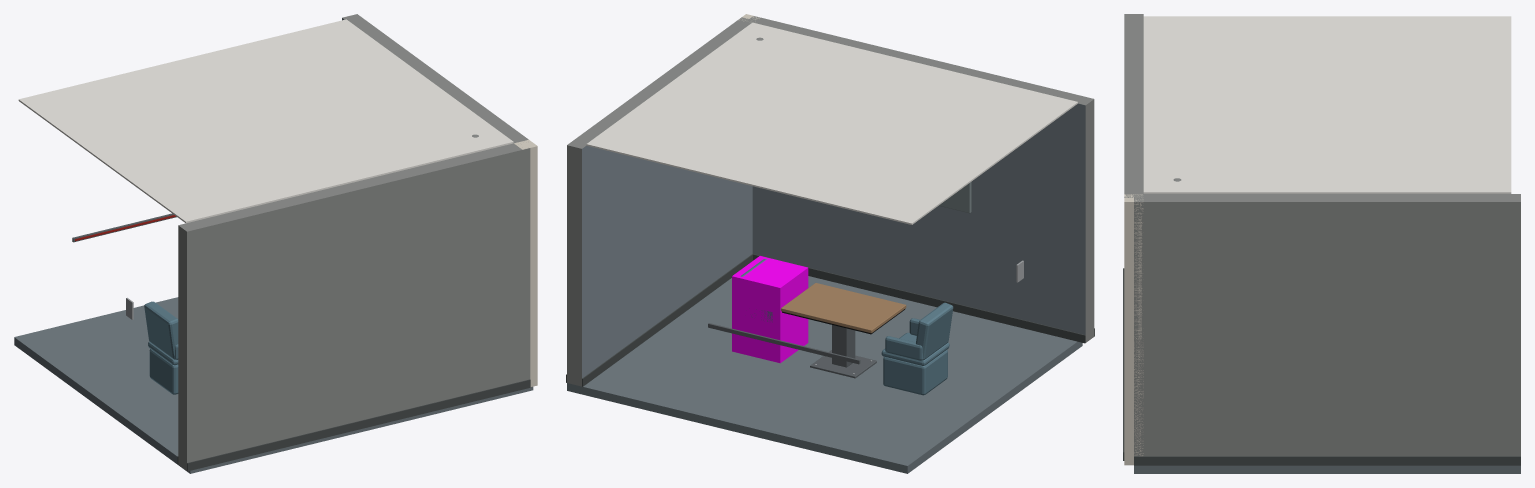
Rendered from ENV_SecureInterviewSuite.glb.
The picture shows the model from 3 angles, left to right: view 1: azimuth 30°, elevation 25°; view 2: azimuth 150°, elevation 25°; view 3: azimuth 270°, elevation 25°; orthographic projection. The views are drawn at different scales.
Parts seen in each view (by area): view 1: ENV_SecureInterviewSuite_Architecture, ENV_SecureInterviewSuite_Ceiling, PROP_Chair_Interview_Weighted_Mesh, ENV_SecureInterviewSuite_Posts, PROP_Duress_Strip_2m_Mesh.001; view 2: ENV_SecureInterviewSuite_Architecture, ENV_SecureInterviewSuite_Ceiling, PROP_Chair_Interview_Weighted_COL-colonly.001, PROP_Table_Interview_Fixed_Mesh, PROP_Chair_Interview_Weighted_Mesh, PROP_Duress_Strip_2m_Mesh.001, PROP_Acoustic_Panel_Mesh; view 3: ENV_SecureInterviewSuite_Architecture, ENV_SecureInterviewSuite_Ceiling, ENV_SecureInterviewSuite_Posts.
Part boxes in pixels (bbox=[...]): ENV_SecureInterviewSuite_Architecture: bbox=[14, 14, 533, 473]; ENV_SecureInterviewSuite_Ceiling: bbox=[18, 19, 513, 223]; PROP_Chair_Interview_Weighted_Mesh: bbox=[144, 301, 178, 394]; ENV_SecureInterviewSuite_Posts: bbox=[514, 139, 537, 386]; PROP_Duress_Strip_2m_Mesh.001: bbox=[72, 213, 176, 242]; ENV_SecureInterviewSuite_Architecture: bbox=[566, 16, 1094, 473]; ENV_SecureInterviewSuite_Ceiling: bbox=[586, 22, 1077, 224]; PROP_Chair_Interview_Weighted_COL-colonly.001: bbox=[732, 256, 808, 363]; PROP_Table_Interview_Fixed_Mesh: bbox=[781, 283, 906, 378]; PROP_Chair_Interview_Weighted_Mesh: bbox=[881, 302, 953, 395]; PROP_Duress_Strip_2m_Mesh.001: bbox=[708, 323, 860, 364]; PROP_Acoustic_Panel_Mesh: bbox=[939, 182, 971, 213]; ENV_SecureInterviewSuite_Architecture: bbox=[1123, 14, 1520, 473]; ENV_SecureInterviewSuite_Ceiling: bbox=[1143, 16, 1511, 193]; ENV_SecureInterviewSuite_Posts: bbox=[1124, 194, 1143, 465].
Size of what is drawn, in the model's own units: 4.61 by 3.13 by 4.11.
